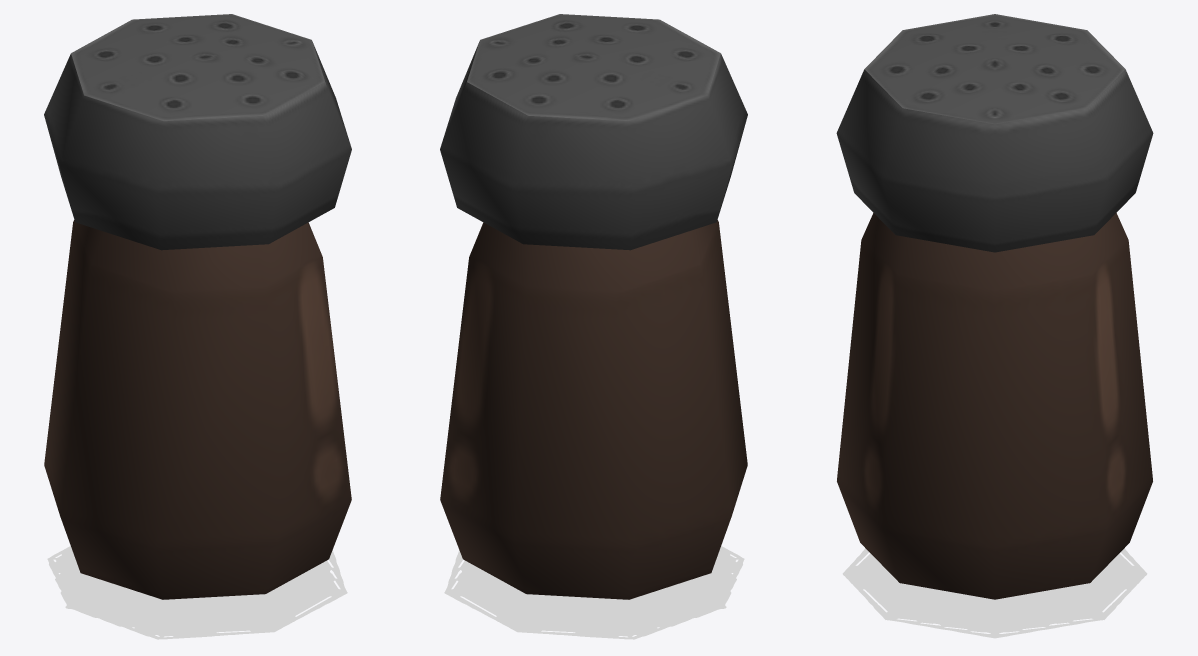
The model's file is pepper.FBX.
3 views of the same model, side by side, from view 1: azimuth 30°, elevation 25°; view 2: azimuth 150°, elevation 25°; view 3: azimuth 270°, elevation 25° (orthographic).
Parts seen in each view (by area): view 1: pepper (×2); view 2: pepper (×2); view 3: pepper (×2).
Part boxes in pixels (x1,y1,x2,y2): pepper (×2): [44, 14, 351, 639]; pepper (×2): [440, 14, 747, 639]; pepper (×2): [836, 14, 1153, 638].
Bounding box in the file's own units: 2.78 × 4.18 × 2.78.
